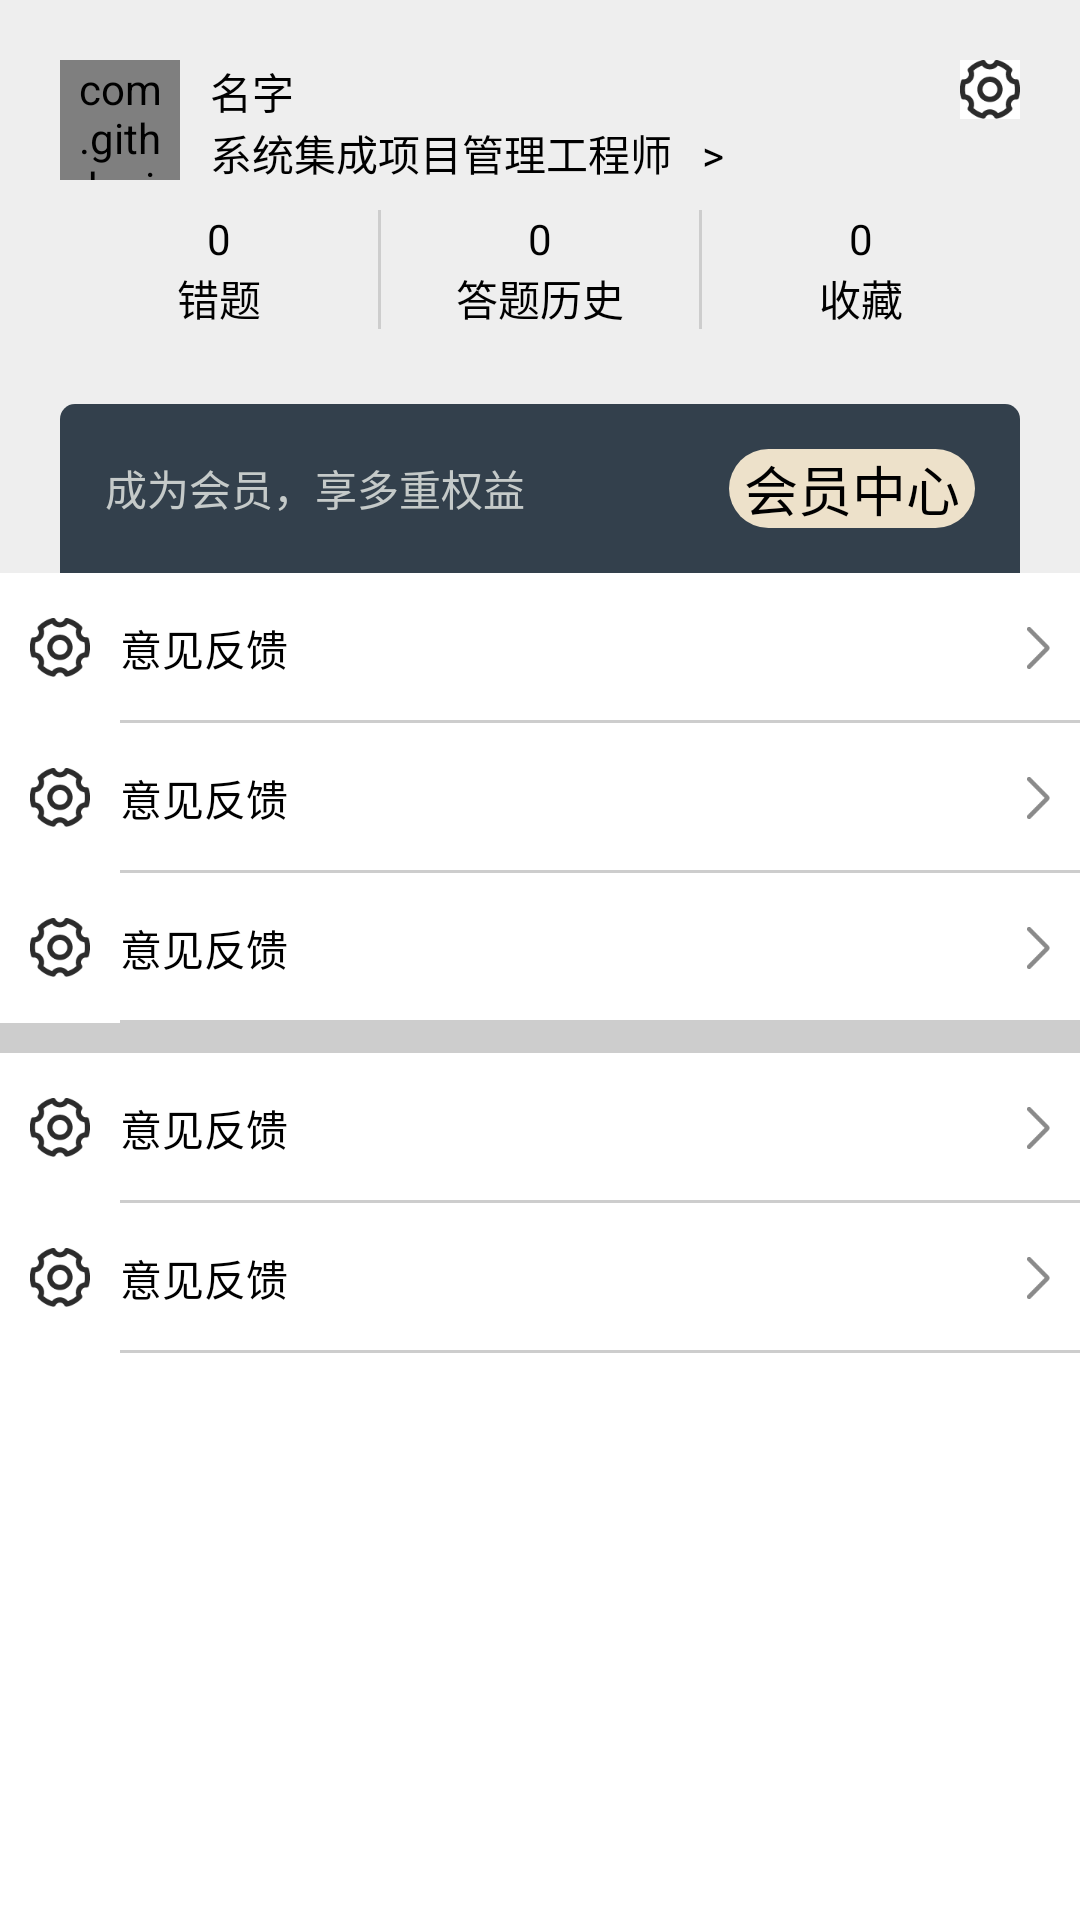

Locate icon controls on the screen. Image size 1080 x 1920, boxes as bbox(x1, y1, x2, y2).
setting: bbox(960, 60, 1020, 119), bbox(30, 618, 90, 677), bbox(30, 768, 90, 827), bbox(30, 918, 90, 977), bbox(30, 1098, 90, 1157), bbox(30, 1248, 90, 1307)
